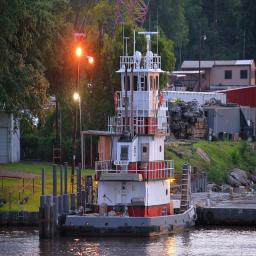tugboat: (55, 27, 199, 244)
